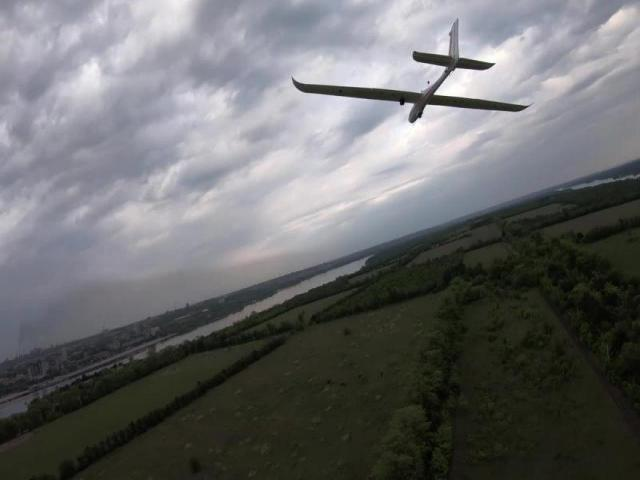hedef: (280, 22, 532, 144)
